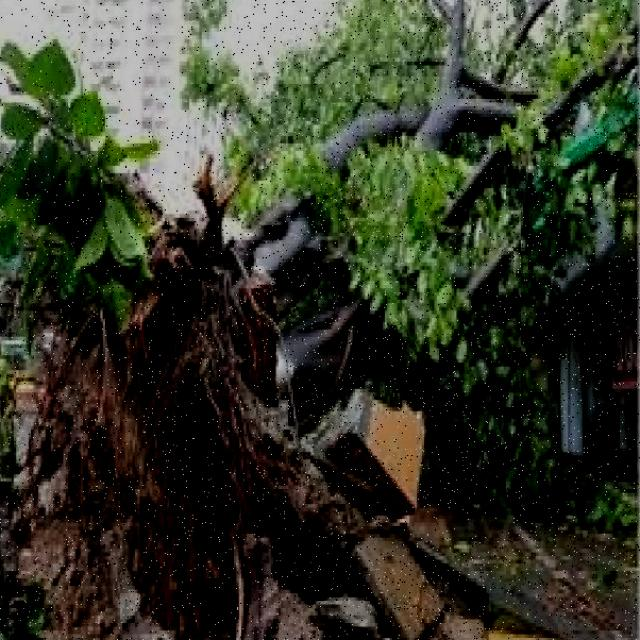fallen_object: (21, 65, 640, 574)
